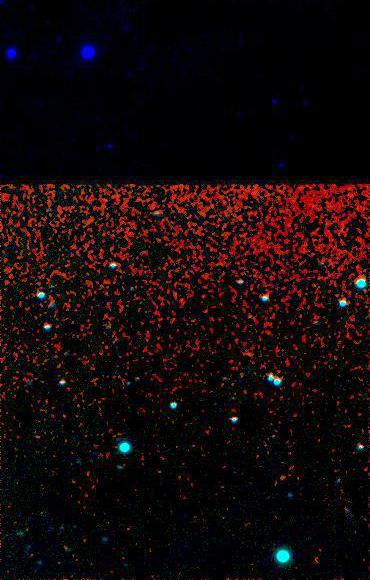star: (267, 464, 297, 494)
